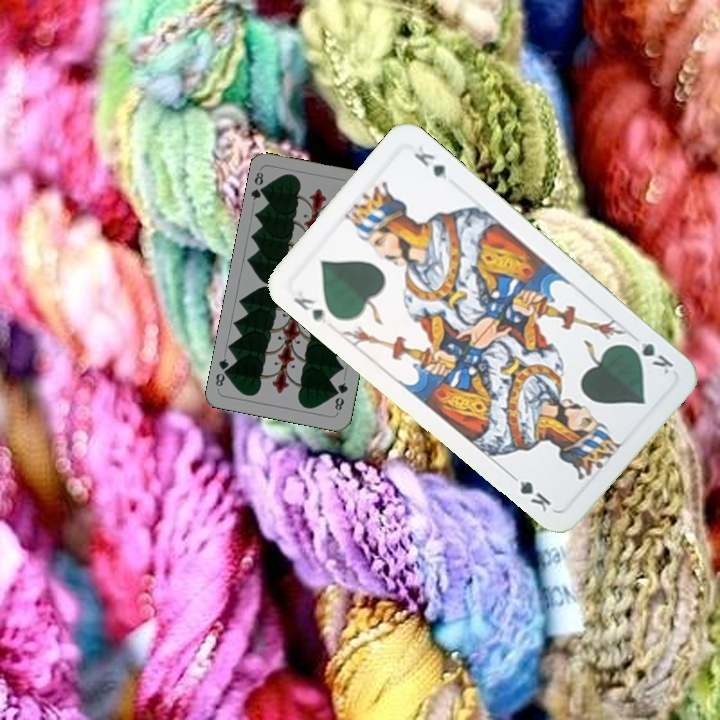G8: (247, 168, 270, 203), (331, 378, 351, 413)
GK: (623, 338, 677, 377), (289, 293, 331, 326)
